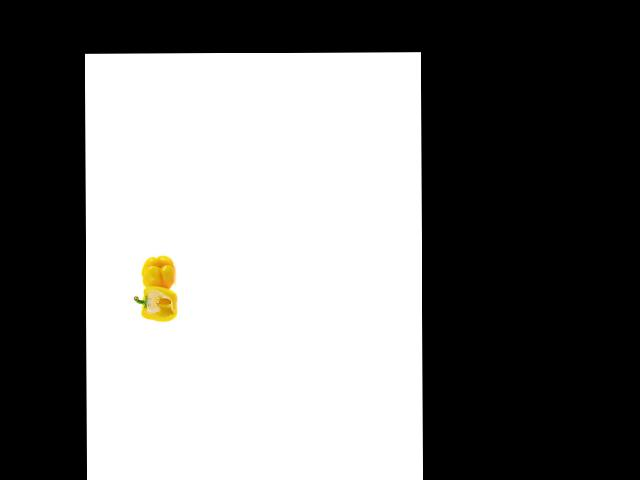bell_pepper: (133, 279, 185, 324)
